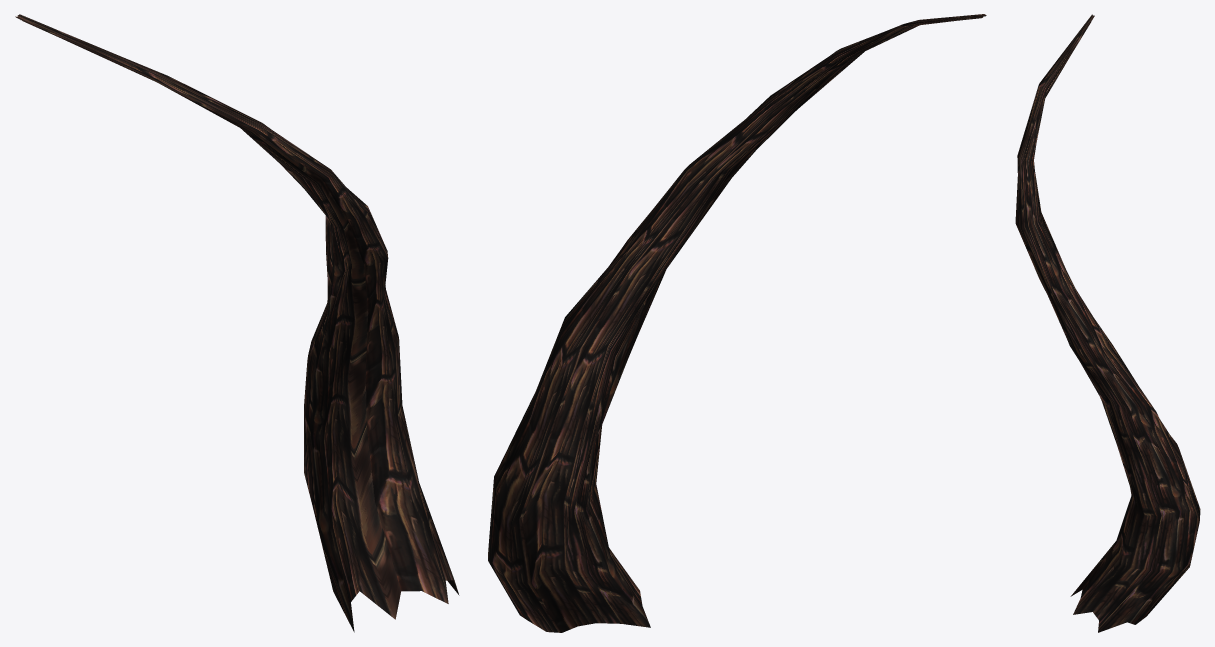
Rendered from tree_01.FBX.
The picture shows the model from 3 angles, left to right: view 1: azimuth 30°, elevation 25°; view 2: azimuth 150°, elevation 25°; view 3: azimuth 270°, elevation 25°; orthographic projection. The views are drawn at different scales.
Visible parts, largest first — view 1: t_01; view 2: t_01; view 3: t_01.
Part boxes in pixels (left/top/right/bottom): t_01: left=15, top=14, right=459, bottom=632; t_01: left=488, top=14, right=986, bottom=632; t_01: left=1015, top=14, right=1200, bottom=632.
Size of the model in its own units: 30.65 by 45.61 by 16.1.
